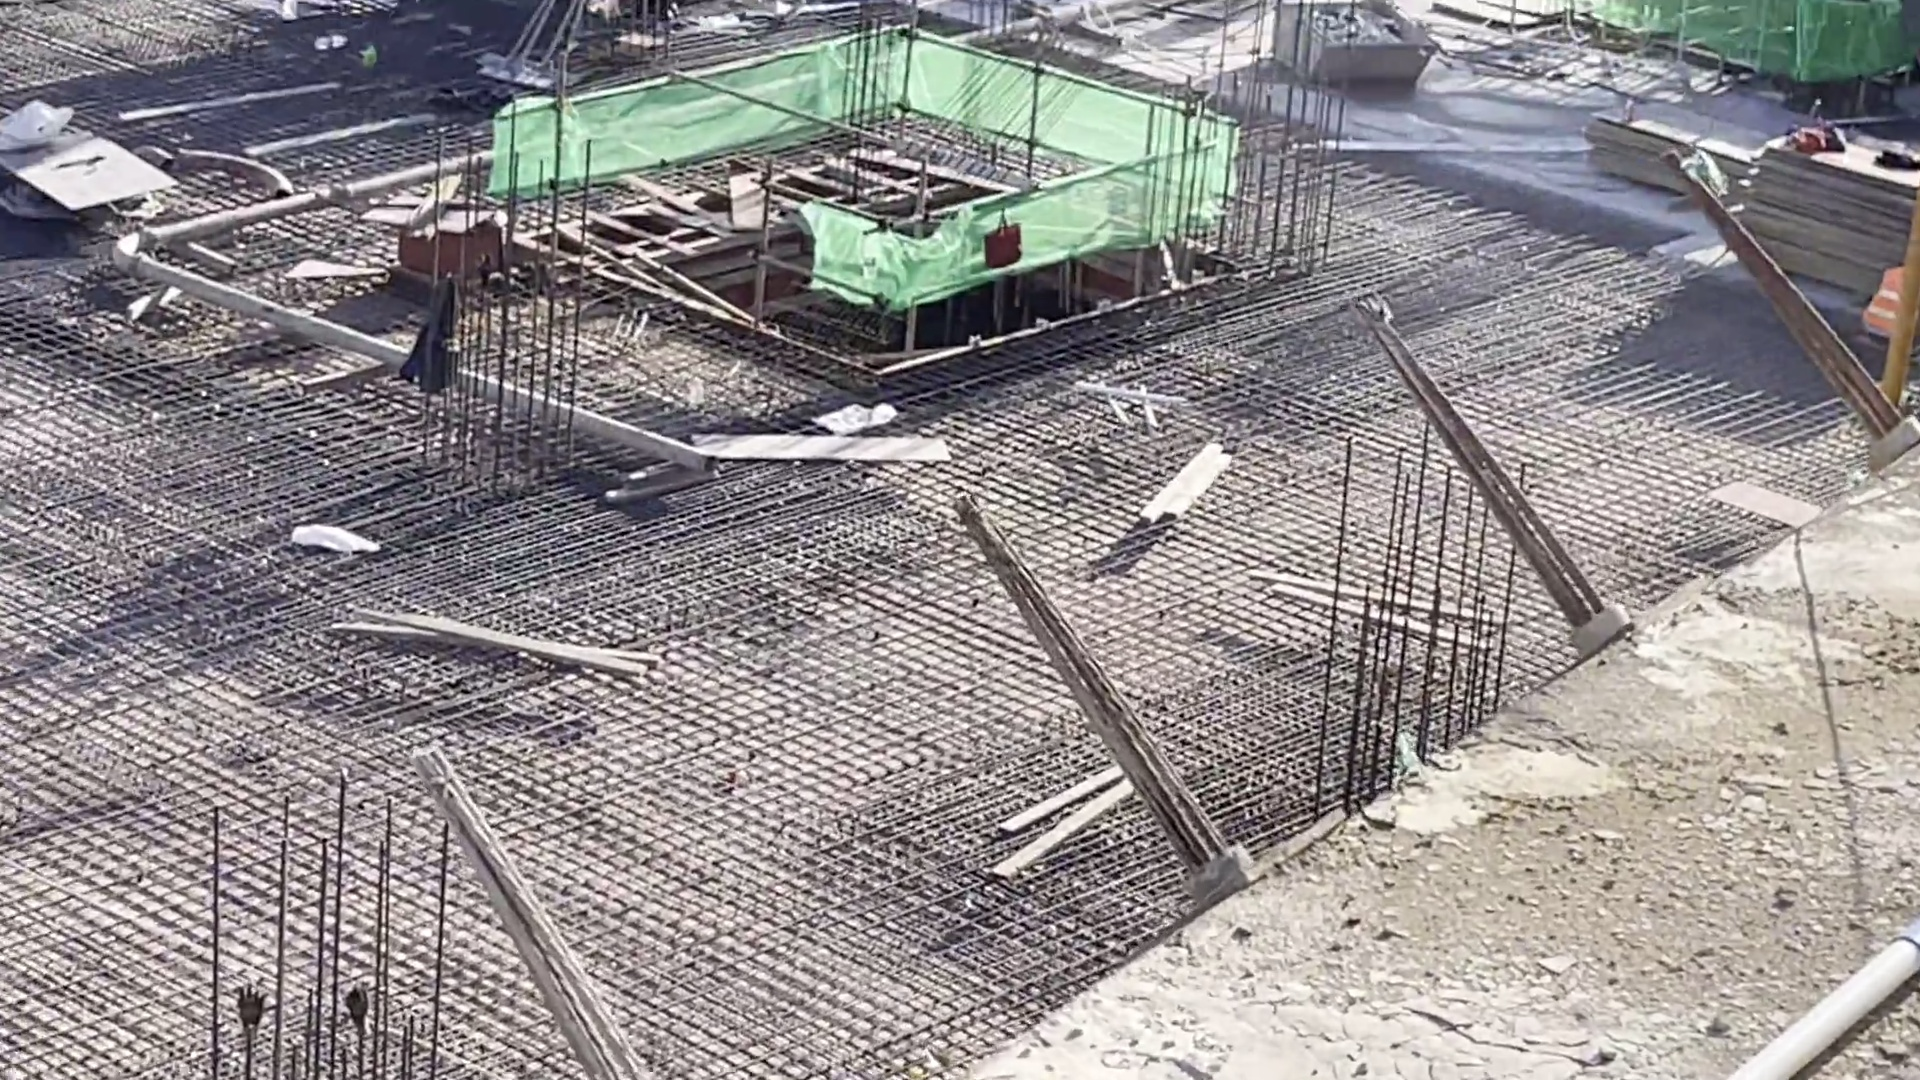board: (1752, 147, 1920, 282), (1578, 115, 1754, 199)
hopper: (1279, 1, 1425, 97)
person: (1851, 241, 1920, 365)
vest: (1865, 271, 1911, 357)
